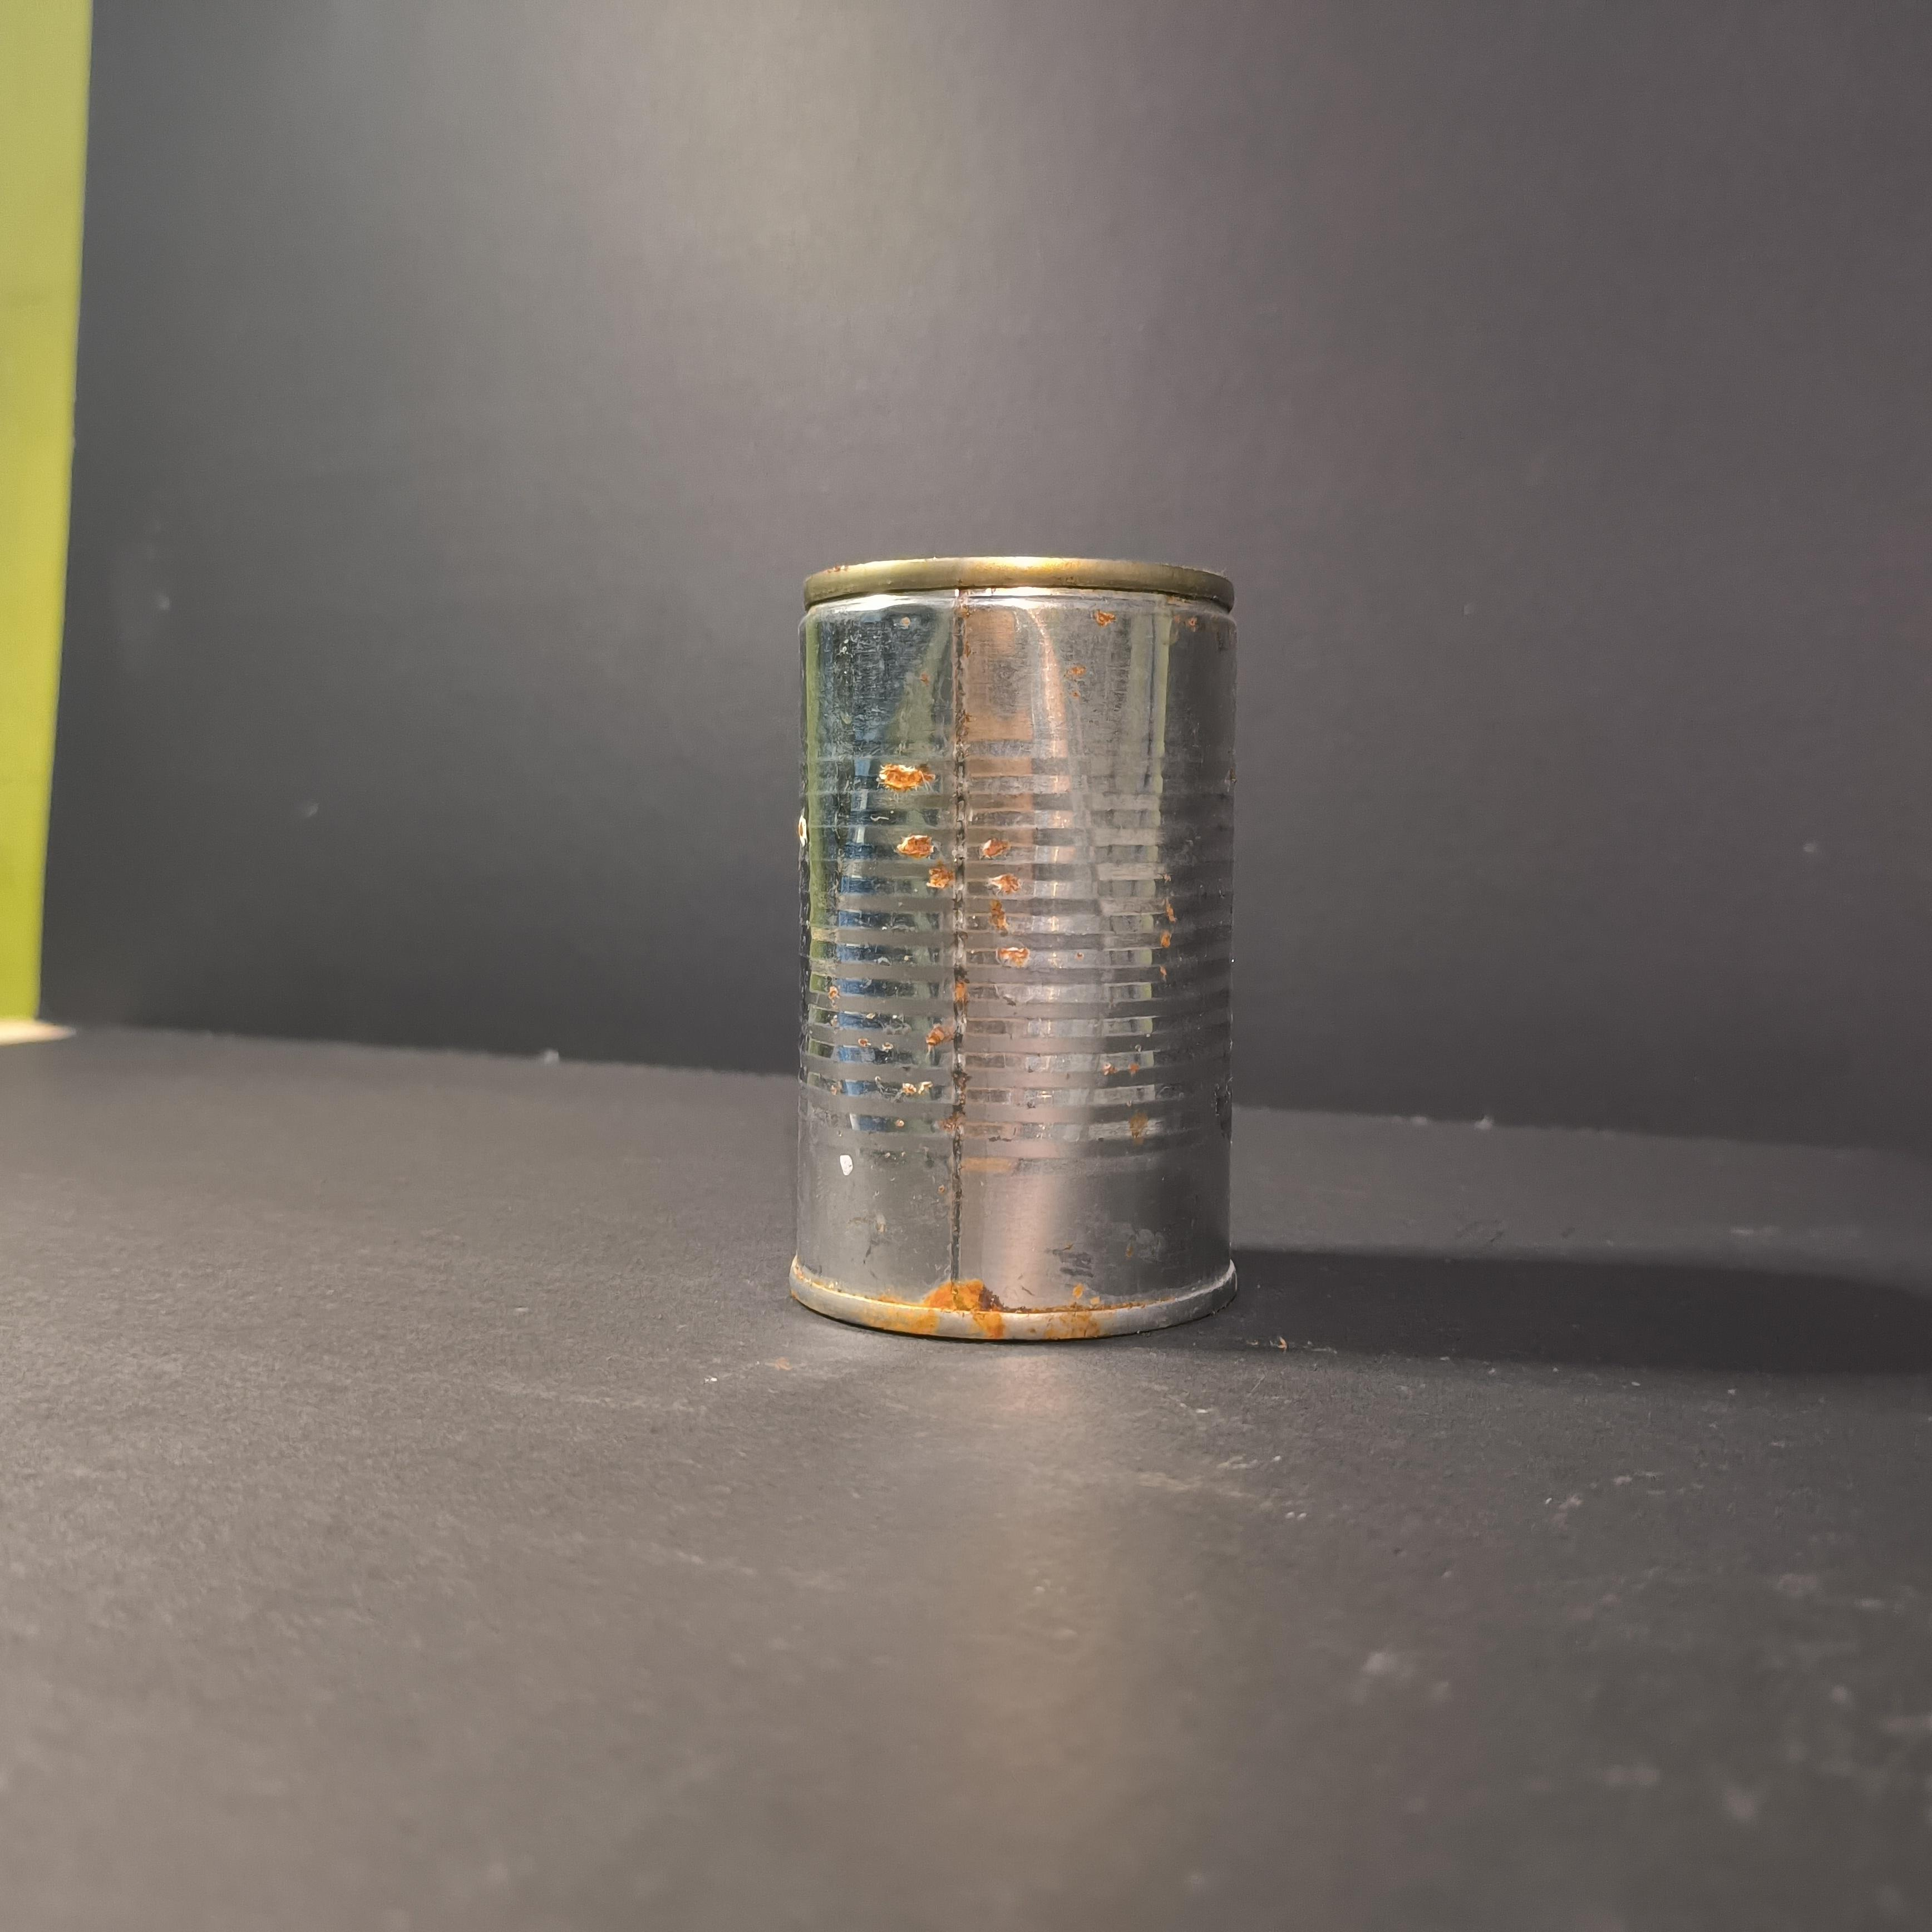Rusted: (784, 534, 1260, 1355)
